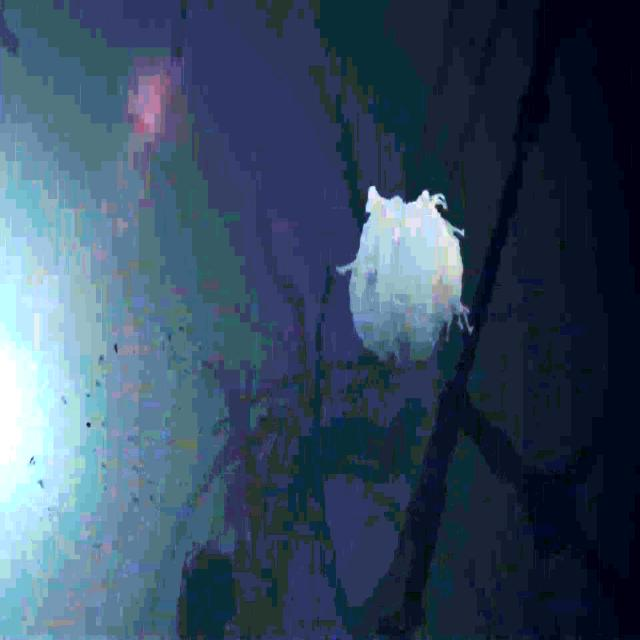blob: (340, 186, 472, 358)
